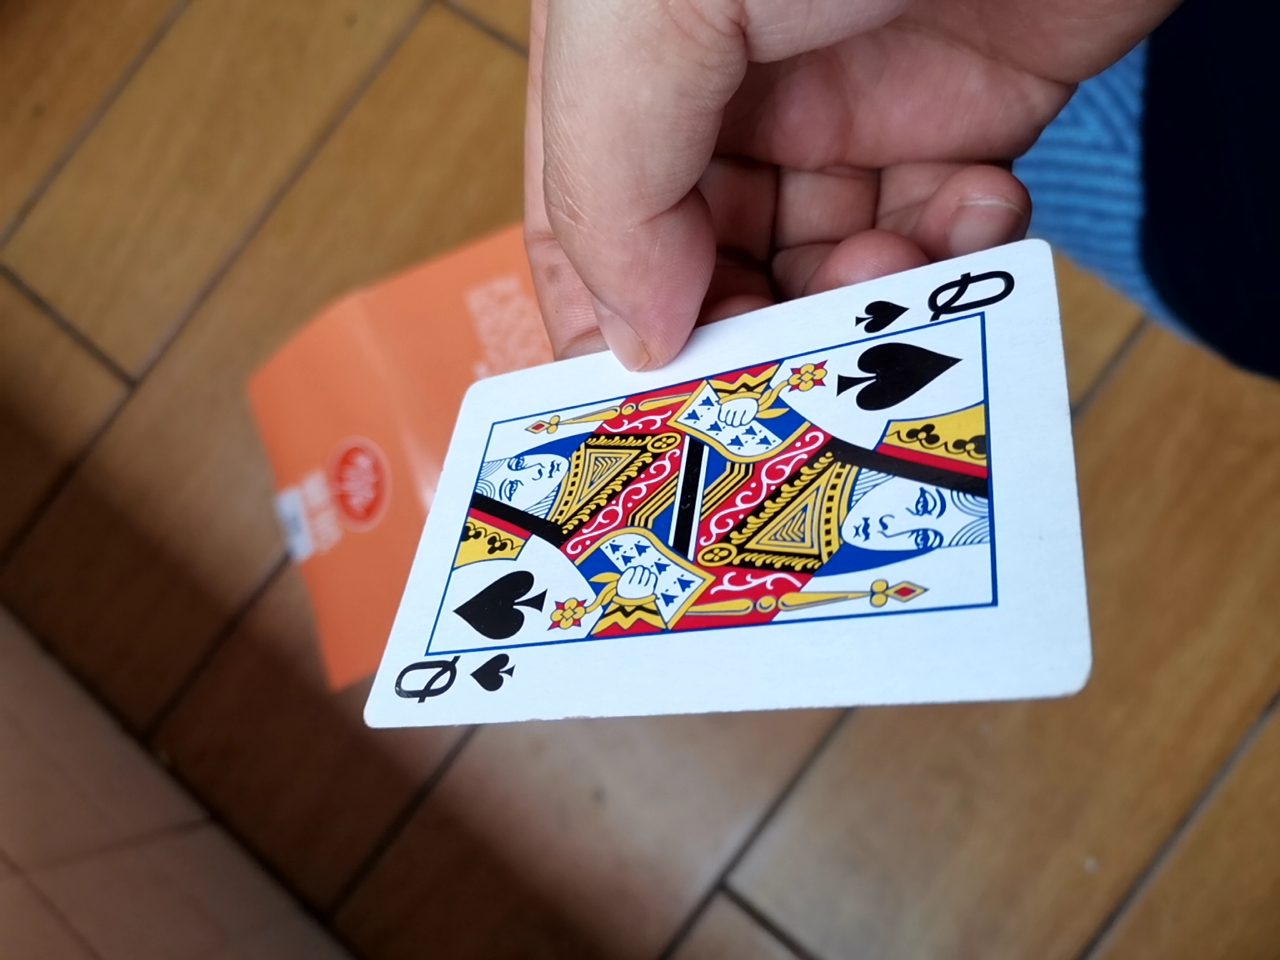ht q: (347, 241, 1087, 744)
